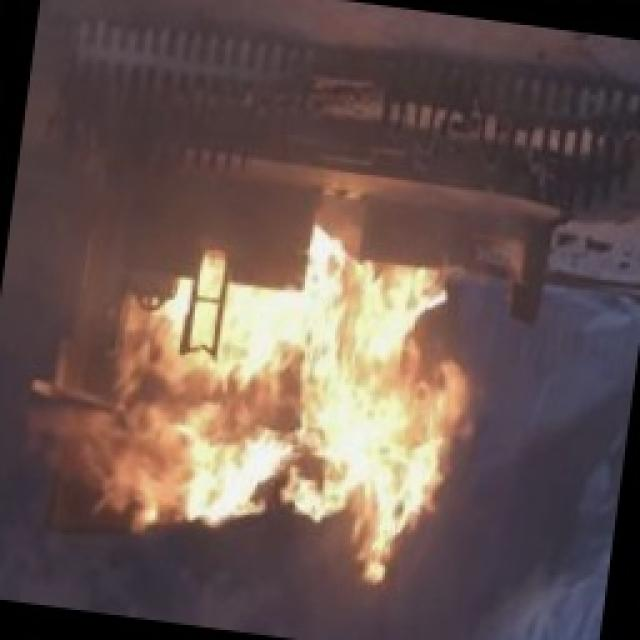fire: (56, 226, 489, 589)
